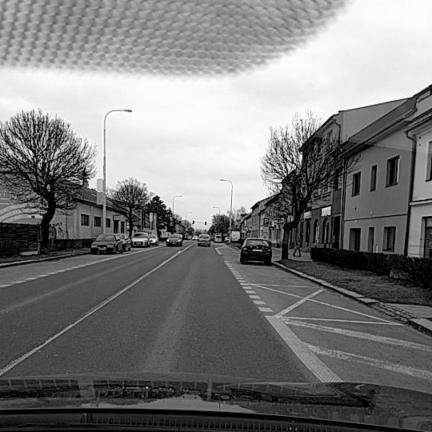Road: (0, 242, 431, 391)
